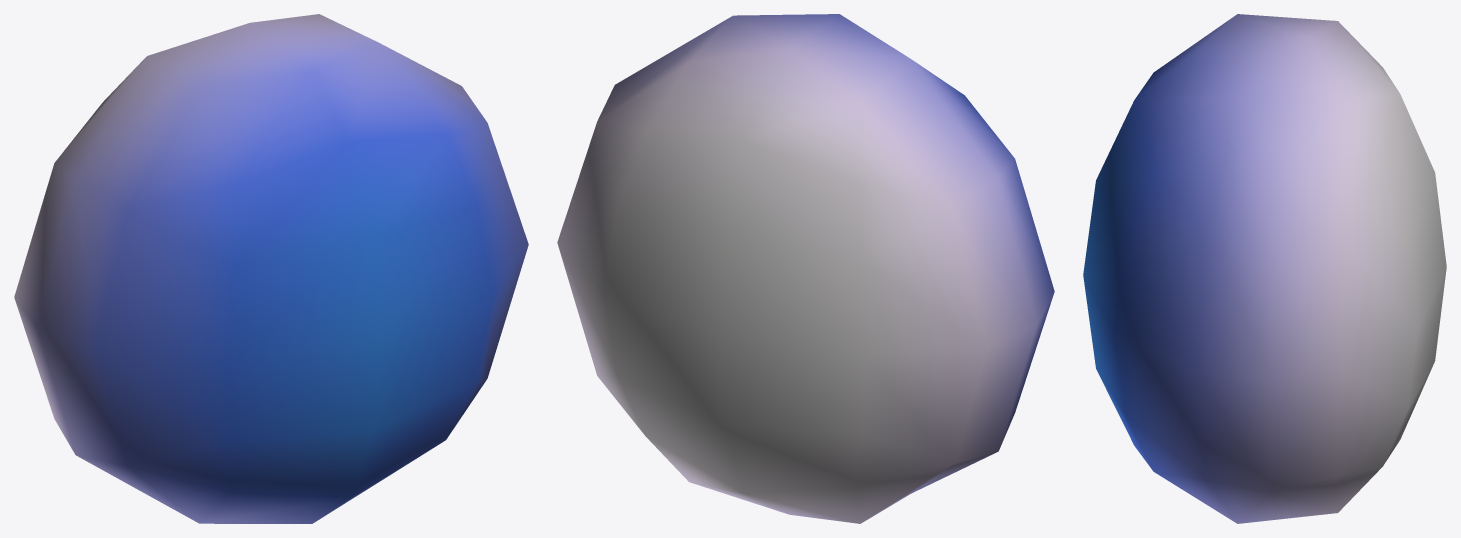
Rendered from HolidaySnowManBase.fbx.
The picture shows the model from 3 angles, left to right: view 1: azimuth 30°, elevation 25°; view 2: azimuth 150°, elevation 25°; view 3: azimuth 270°, elevation 25°; orthographic projection. The views are drawn at different scales.
Visible parts, largest first — view 1: HolidaySnowManBase; view 2: HolidaySnowManBase; view 3: HolidaySnowManBase.
Boxes of the visible parts, bbox=[...] form: HolidaySnowManBase: bbox=[14, 14, 528, 523]; HolidaySnowManBase: bbox=[557, 14, 1054, 523]; HolidaySnowManBase: bbox=[1083, 14, 1446, 523].
Bounding box in the file's own units: 47.52 × 45.93 × 33.19.
